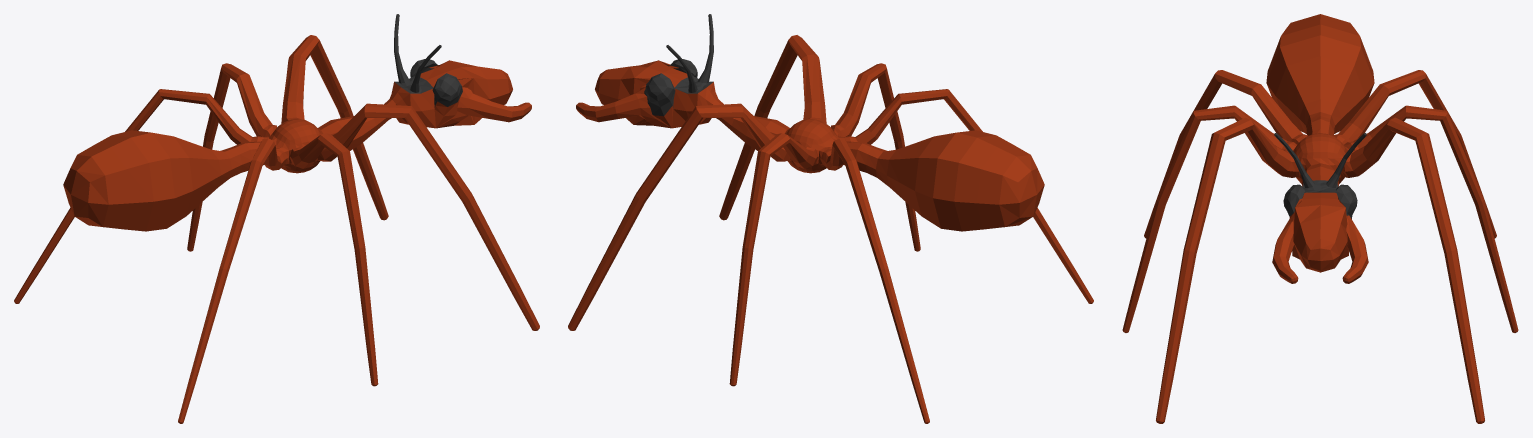
File: Ant.obj
3 views of the same model, side by side, from view 1: azimuth 30°, elevation 25°; view 2: azimuth 150°, elevation 25°; view 3: azimuth 270°, elevation 25° (orthographic). The views are drawn at different scales.
Parts seen in each view (by area): view 1: abdo, legs_front, legs_back, Legs_mid, neck, mand, eyes, head, mid, antennae; view 2: abdo, legs_front, legs_back, Legs_mid, neck, mand, eyes, head, mid, antennae; view 3: legs_front, abdo, Legs_mid, legs_back, head, mand, mid, antennae, neck, eyes.
Part boxes in pixels (left/top/right/bottom): abdo: left=63, top=130, right=275, bottom=231; legs_front: left=281, top=35, right=539, bottom=330; legs_back: left=14, top=89, right=289, bottom=423; Legs_mid: left=187, top=63, right=378, bottom=386; neck: left=317, top=60, right=472, bottom=150; mand: left=436, top=78, right=531, bottom=128; eyes: left=410, top=59, right=474, bottom=127; head: left=450, top=60, right=512, bottom=124; mid: left=269, top=119, right=323, bottom=173; antennae: left=394, top=14, right=441, bottom=93; abdo: left=832, top=130, right=1044, bottom=231; legs_front: left=568, top=35, right=826, bottom=330; legs_back: left=818, top=89, right=1093, bottom=423; Legs_mid: left=729, top=63, right=920, bottom=386; neck: left=635, top=60, right=789, bottom=150; mand: left=576, top=78, right=671, bottom=128; eyes: left=633, top=59, right=697, bottom=127; head: left=595, top=60, right=657, bottom=124; mid: left=784, top=119, right=838, bottom=173; antennae: left=666, top=14, right=713, bottom=93; legs_front: left=1156, top=117, right=1484, bottom=423; abdo: left=1266, top=14, right=1374, bottom=135; Legs_mid: left=1122, top=105, right=1518, bottom=332; legs_back: left=1144, top=70, right=1496, bottom=238; head: left=1292, top=205, right=1348, bottom=272; mand: left=1272, top=212, right=1368, bottom=283; mid: left=1293, top=133, right=1347, bottom=183; antennae: left=1274, top=133, right=1366, bottom=192; neck: left=1295, top=163, right=1345, bottom=207; eyes: left=1283, top=184, right=1357, bottom=255.
Bounding box in the file's own units: 265 × 145 × 192.
